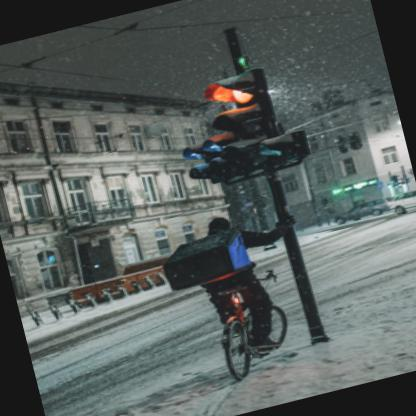trafficlight: (200, 62, 290, 178)
